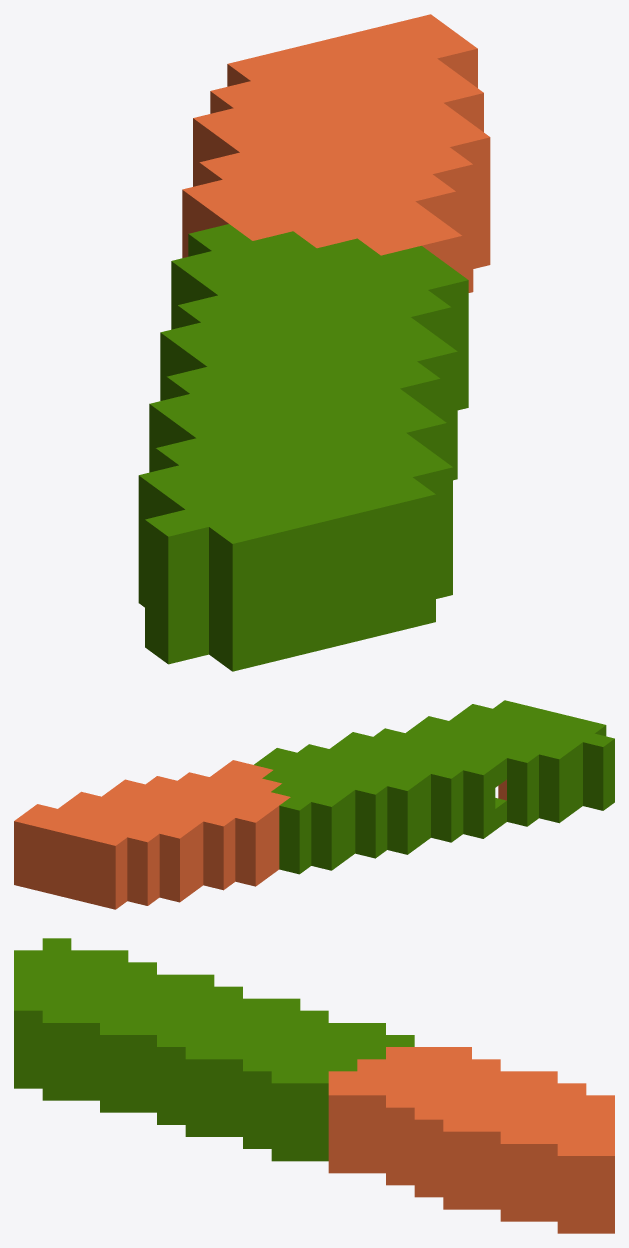
Rendered from Eruption-19.obj.
The picture shows the model from 3 angles, top to bottom: view 1: azimuth 30°, elevation 25°; view 2: azimuth 150°, elevation 25°; view 3: azimuth 270°, elevation 25°; orthographic projection. The views are drawn at different scales.
Bounding box in the file's own units: 1.8 × 0.3 × 2.1.
1 material, 1 textured.
